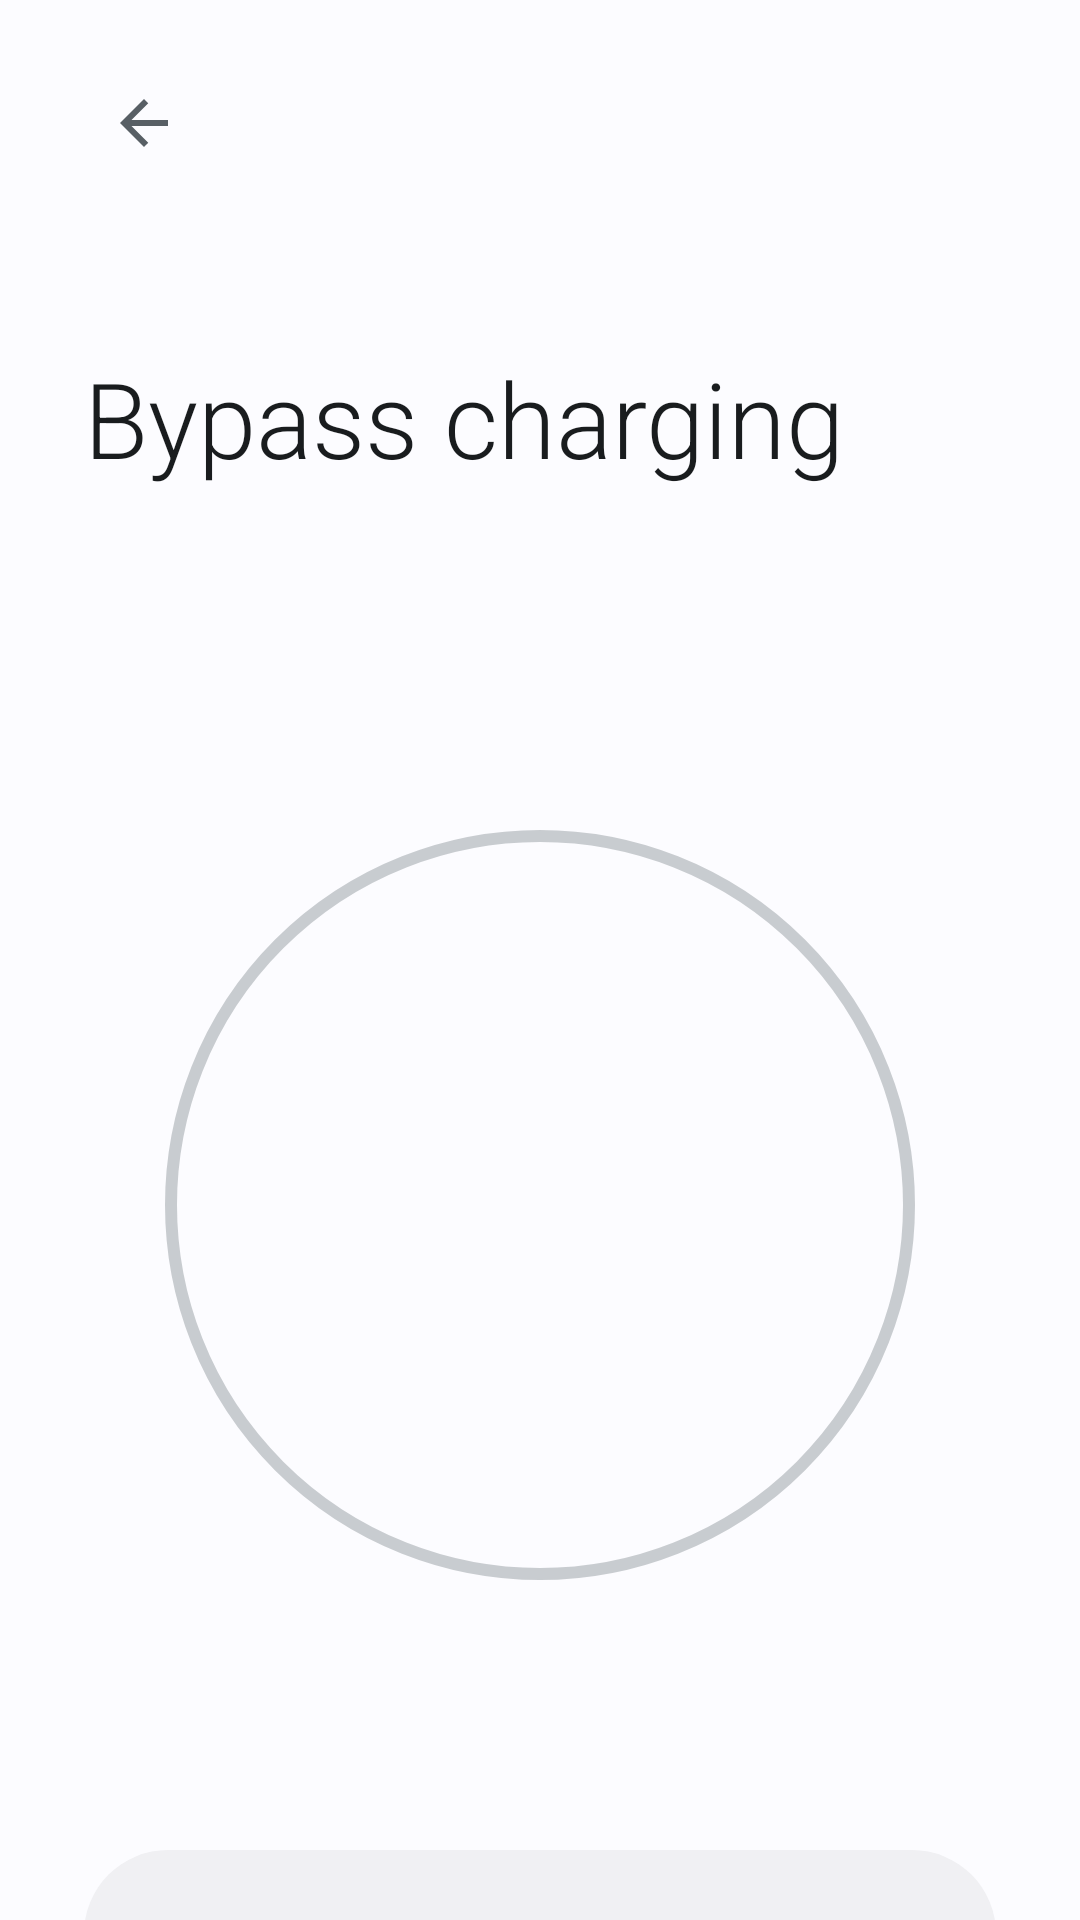

Point at icon controls on the screen. Image size 1080x1920, points as (x,y).
arrow back: (144,123)
